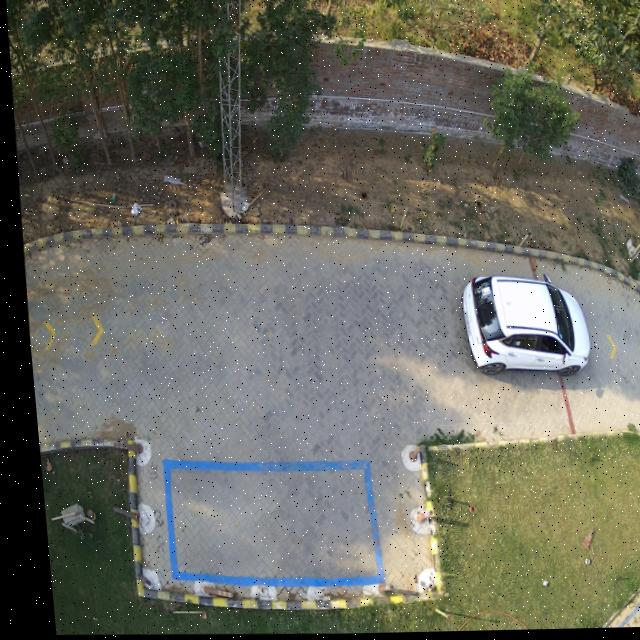car: (455, 278, 582, 375)
